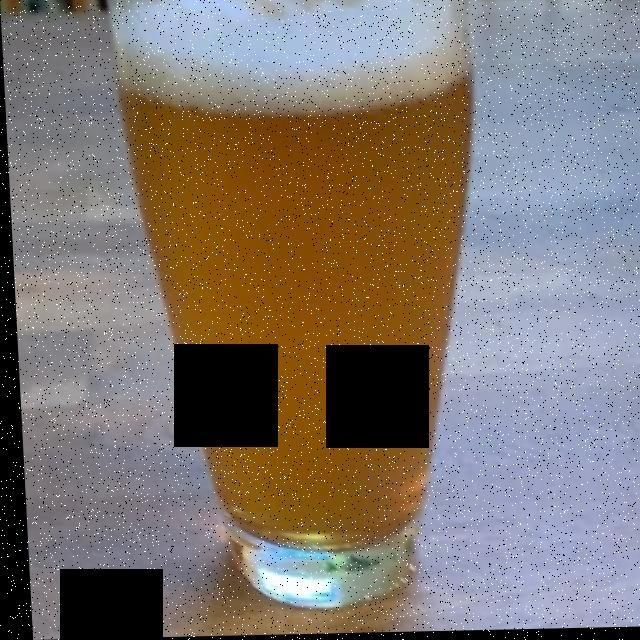beer: (116, 4, 471, 551)
